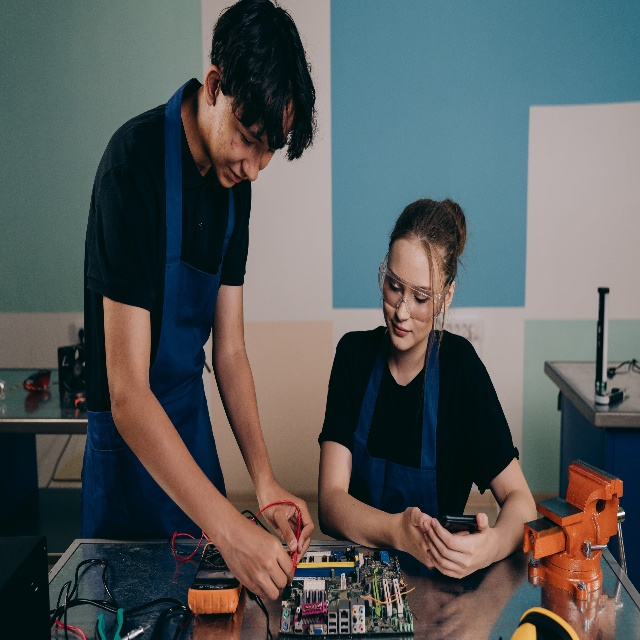Gafas: (378, 263, 447, 319)
Sin_guantes: (226, 507, 293, 600), (256, 480, 313, 564), (423, 509, 488, 580), (401, 501, 436, 568)
